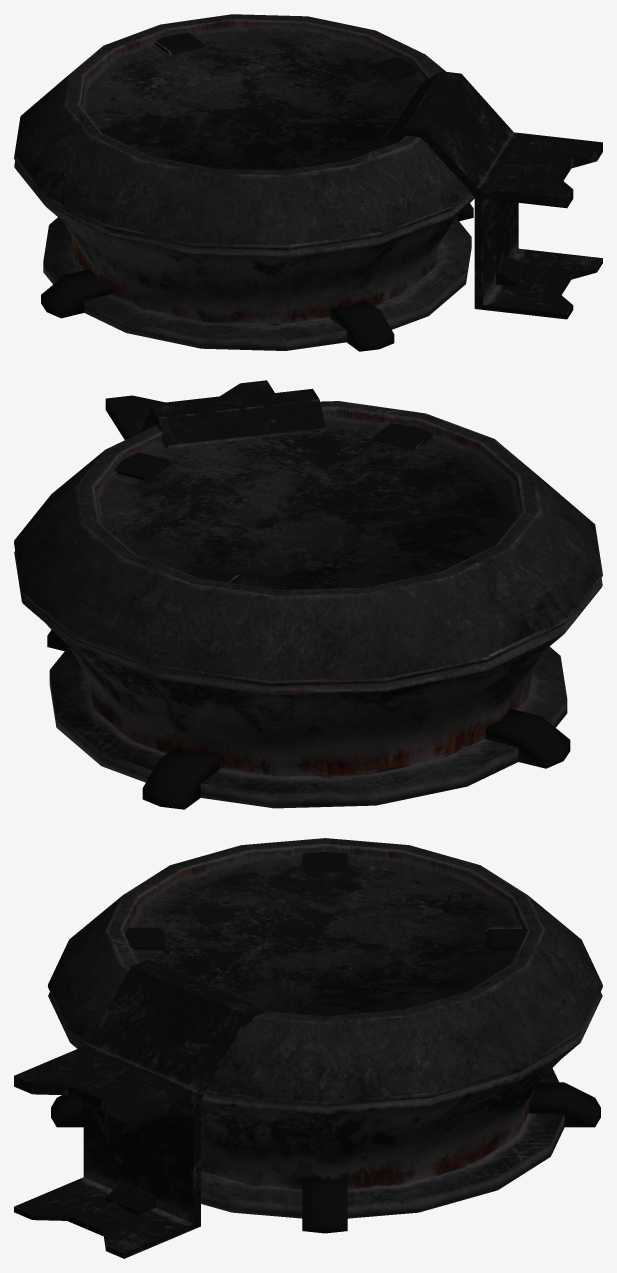
Rendered from hologram.glb.
3 renders of one model, top to bottom at view 1: azimuth 30°, elevation 25°; view 2: azimuth 150°, elevation 25°; view 3: azimuth 270°, elevation 25°, orthographic. The views are drawn at different scales.
Parts seen in each view (by area): view 1: Cube.002, Cube.001, Cube; view 2: Cube.002, Cube, Cube.001; view 3: Cube.002, Cube.001, Cube.
Boxes of the visible parts, bbox=[...] form: Cube.002: bbox=[14, 14, 474, 350]; Cube.001: bbox=[383, 71, 602, 319]; Cube: bbox=[41, 32, 527, 351]; Cube.002: bbox=[14, 401, 602, 808]; Cube: bbox=[47, 423, 570, 809]; Cube.001: bbox=[105, 380, 326, 448]; Cube.002: bbox=[47, 838, 602, 1218]; Cube.001: bbox=[14, 959, 267, 1258]; Cube: bbox=[51, 852, 600, 1233].
Size of the model in its own units: 3.54 by 1.25 by 3.4.
3 materials, 3 textured.
